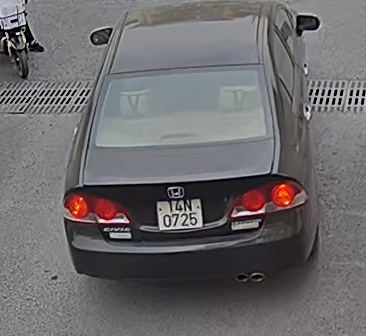vehicle plate: (155, 195, 202, 233)
